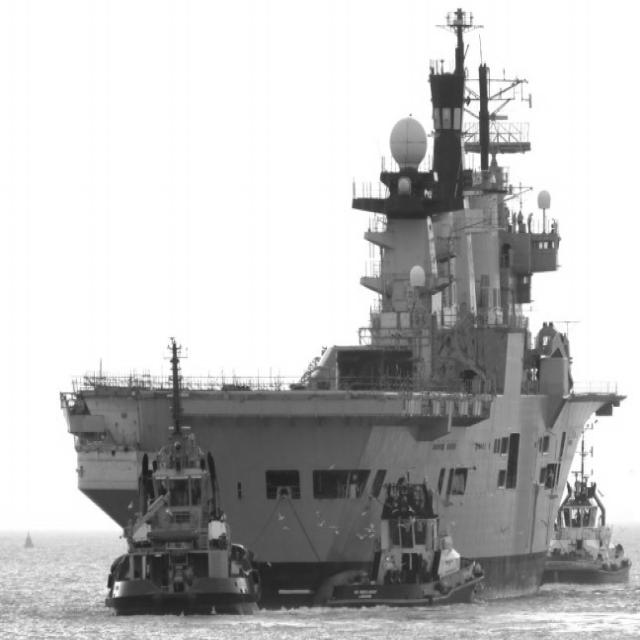Portanaves: (58, 1, 629, 609)
